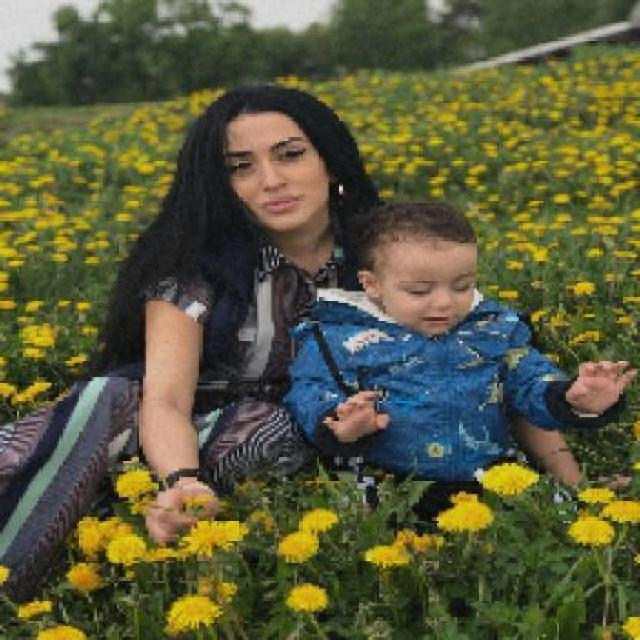child: (284, 200, 639, 517)
